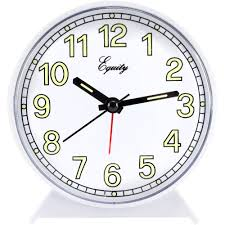alarm_clock: (10, 1, 214, 221), (10, 5, 214, 221), (18, 5, 214, 221)
